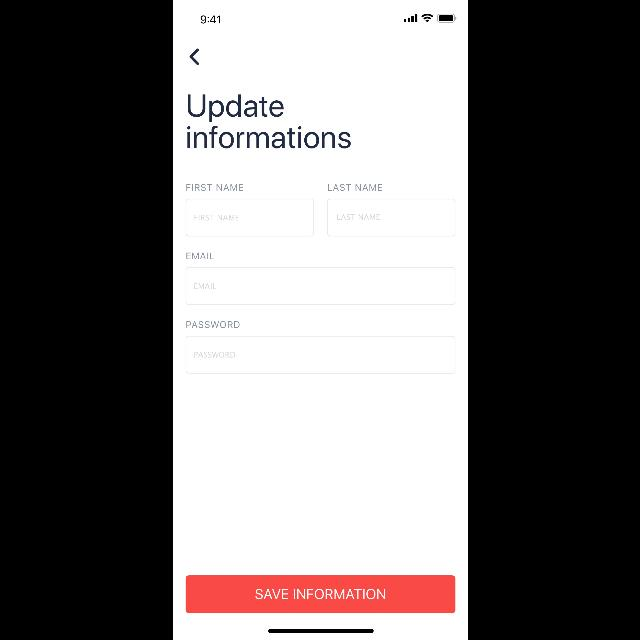icon: (190, 49, 198, 66)
input: (185, 336, 455, 374), (185, 267, 455, 305), (327, 199, 455, 237), (185, 199, 313, 237)
text: (186, 95, 350, 149), (327, 184, 381, 192), (185, 183, 242, 190), (186, 322, 238, 328), (194, 215, 238, 221), (336, 214, 379, 220), (193, 352, 234, 358), (186, 252, 214, 260), (194, 283, 216, 289)
textbutton: (185, 575, 455, 613)
uppertaskbar: (200, 14, 456, 24)
